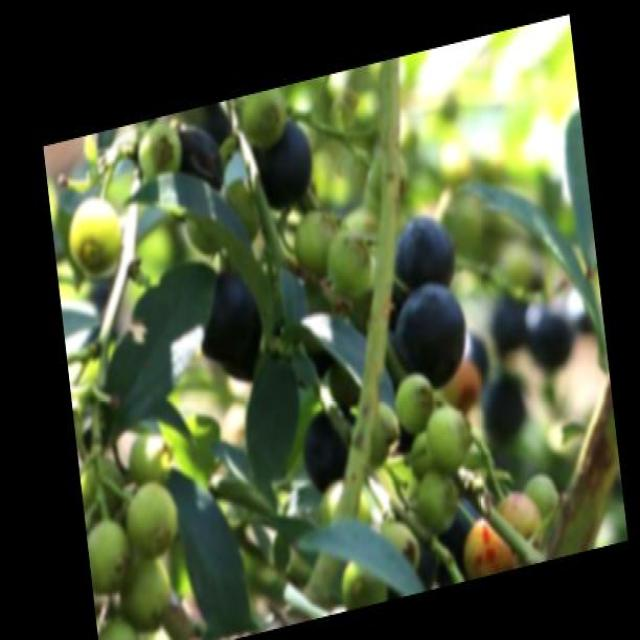blueberry: (387, 271, 472, 400), (188, 259, 264, 367), (246, 110, 318, 213), (389, 205, 458, 295), (297, 403, 358, 496), (172, 119, 225, 198)
blueberry-halfripe: (487, 482, 543, 563), (455, 508, 517, 579)
blueberry-unripe: (60, 187, 124, 279), (121, 469, 183, 563), (117, 549, 174, 635), (315, 467, 374, 543), (84, 505, 132, 593), (322, 221, 374, 300), (422, 398, 473, 476), (130, 115, 185, 187), (288, 198, 339, 274), (216, 166, 262, 245), (124, 425, 176, 493), (236, 86, 286, 154), (414, 464, 460, 535), (393, 367, 437, 433), (340, 546, 386, 609), (376, 510, 421, 572), (518, 466, 564, 522), (94, 606, 140, 638)
